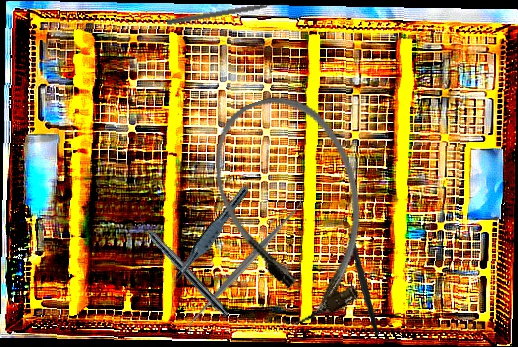Cannula: (194, 79, 394, 336)
Chopper: (327, 214, 390, 336)
Handpiece: (132, 213, 233, 319)
Pusher: (166, 0, 285, 27)
Spatula Surgical: (176, 193, 313, 338)
Tissue Forceps: (168, 180, 251, 290)
